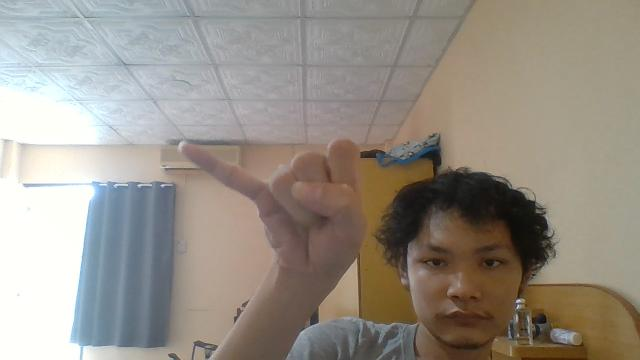Right: (176, 141, 364, 272)
